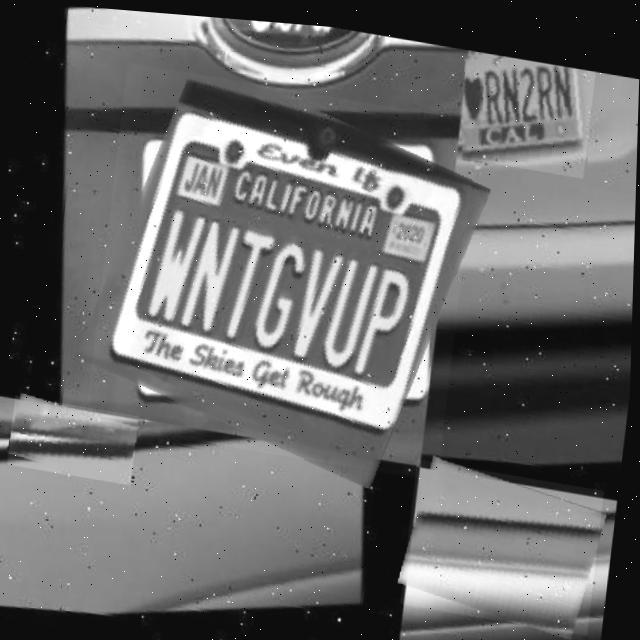LicensePlate: (87, 58, 480, 476), (402, 451, 607, 626), (455, 41, 596, 169), (9, 394, 141, 483)
